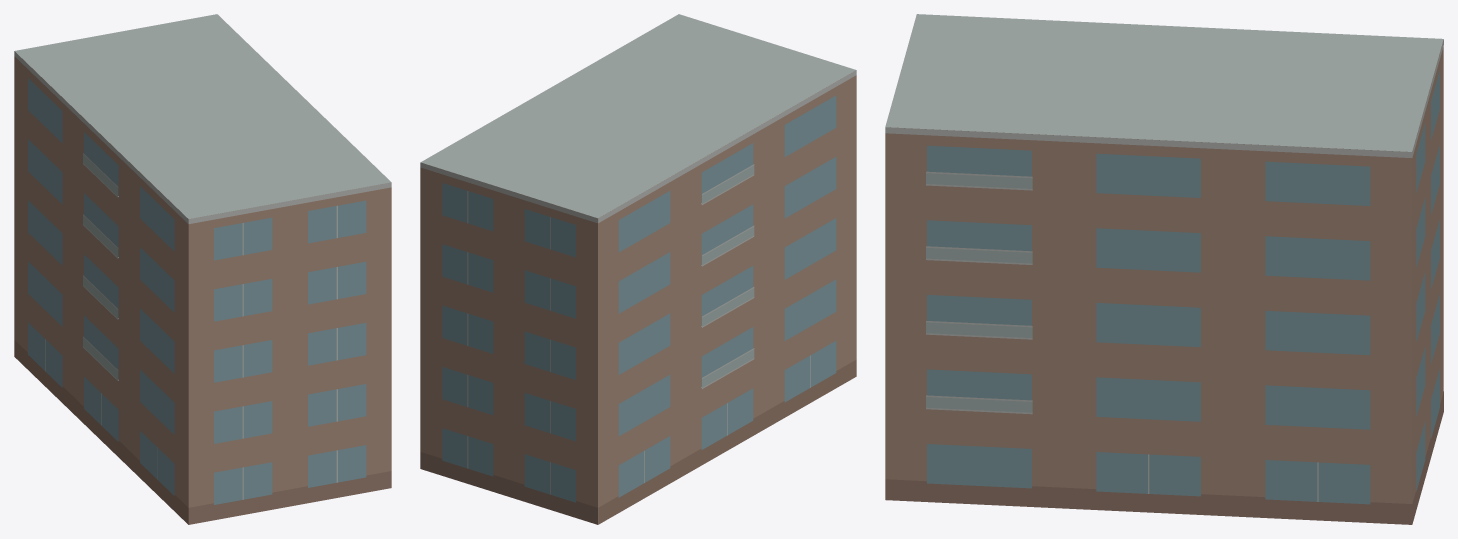
File: survey-upis-32566812.glb
3 views of the same model, side by side, from view 1: azimuth 30°, elevation 25°; view 2: azimuth 150°, elevation 25°; view 3: azimuth 270°, elevation 25° (orthographic). The views are drawn at different scales.
Visible parts, largest first — view 1: survey-upis-32566812.tmp; view 2: survey-upis-32566812.tmp; view 3: survey-upis-32566812.tmp.
Boxes of the visible parts, bbox=[...] form: survey-upis-32566812.tmp: bbox=[14, 14, 391, 524]; survey-upis-32566812.tmp: bbox=[420, 14, 856, 524]; survey-upis-32566812.tmp: bbox=[885, 14, 1443, 524].
Size of the model in its own units: 11.76 by 14.8 by 20.11.
